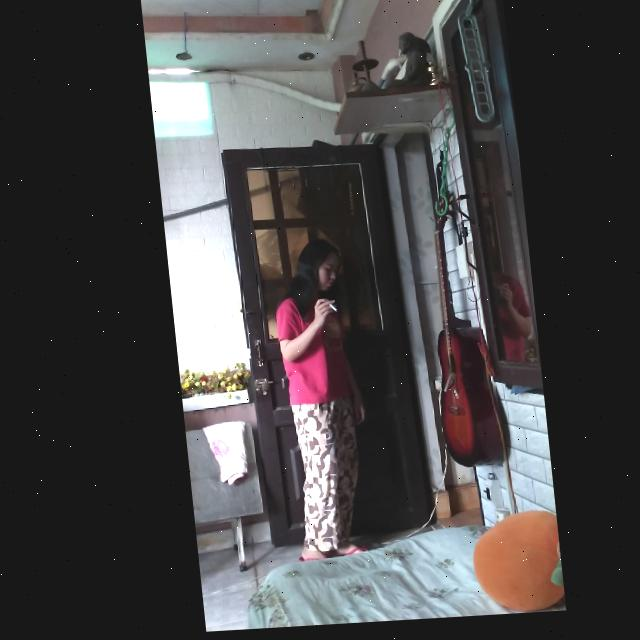cigarette: (322, 306, 329, 316)
